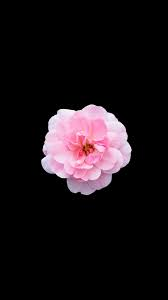flower: (24, 68, 132, 216)
